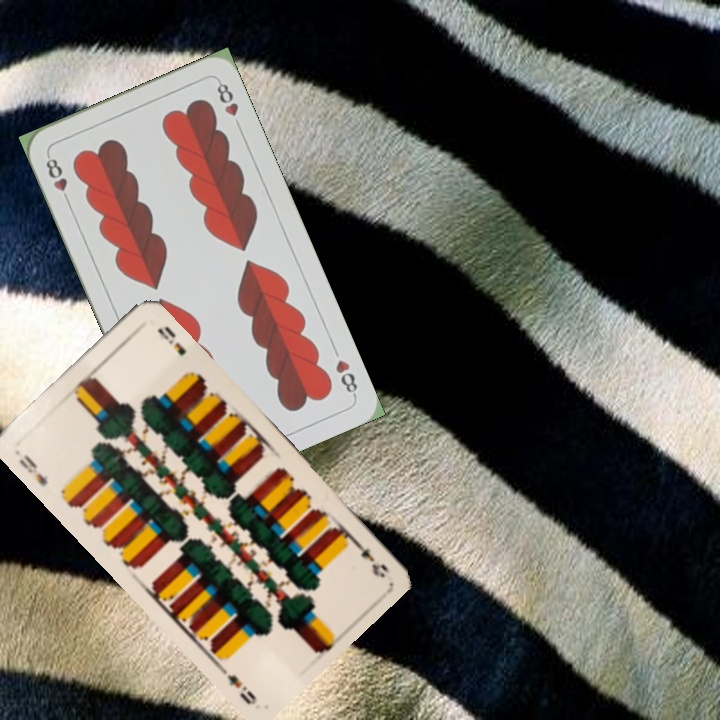E9: (344, 531, 392, 581), (15, 450, 51, 489)
H8: (41, 150, 73, 207), (331, 355, 360, 400)
